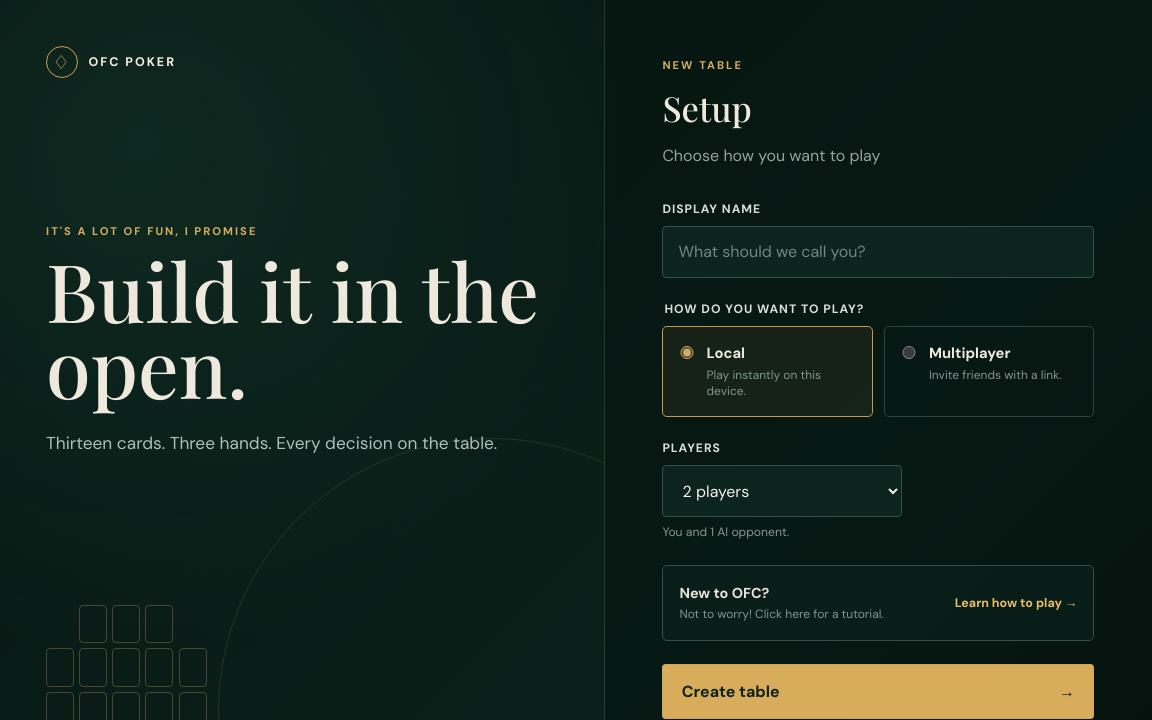
Test: creates a repository-base-safe multiplayer invite link
In the field labelled "Display name": (878, 252) x1=662 y1=226 x2=1094 y2=278, type "Host"
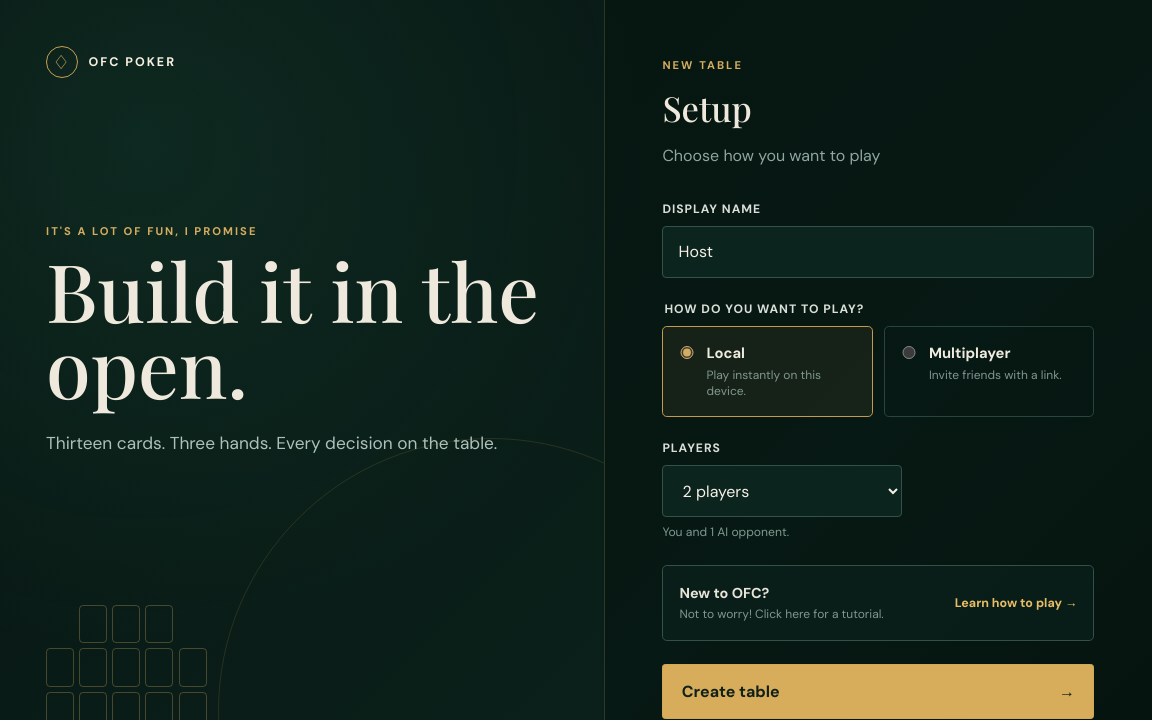
Click the radio button labelled "Multiplayer Invite friends with a link.": (909, 352) x1=901 y1=346 x2=917 y2=359
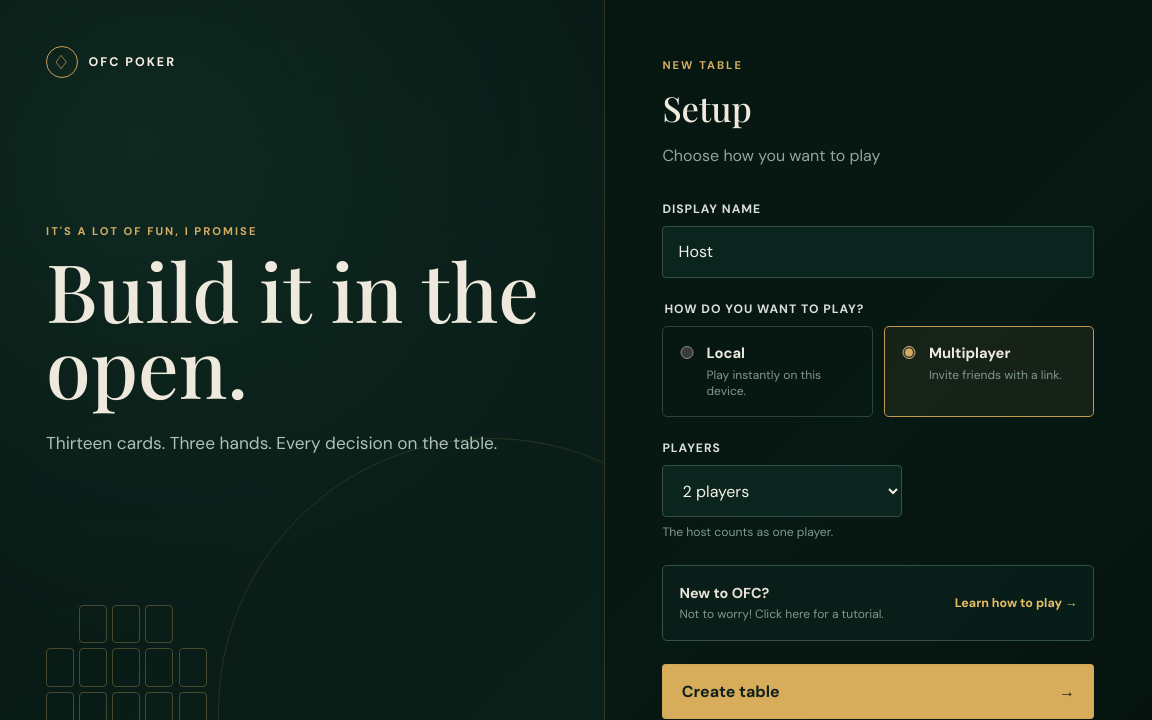
Click the button "Create table →": (731, 692) x1=662 y1=664 x2=1094 y2=719
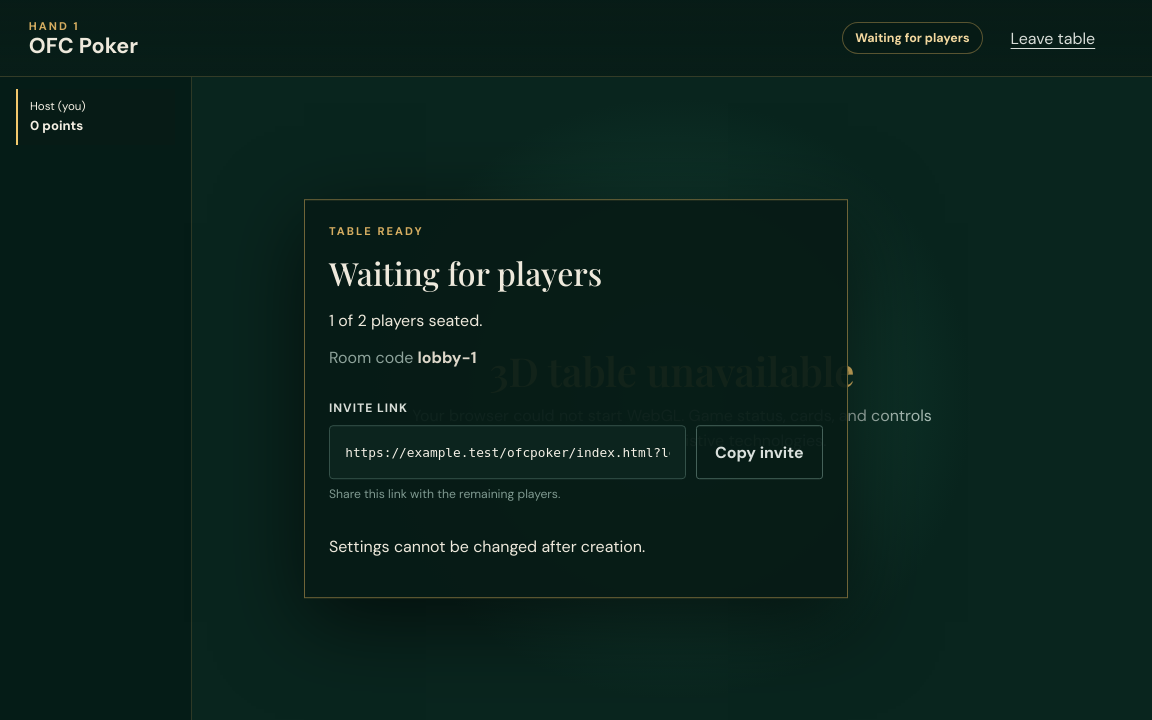
Result: the field labelled "Invite link" holds "https://example.test/ofcpoker/index.html?lobby=lobby-1" at x1=329 y1=425 x2=686 y2=480
